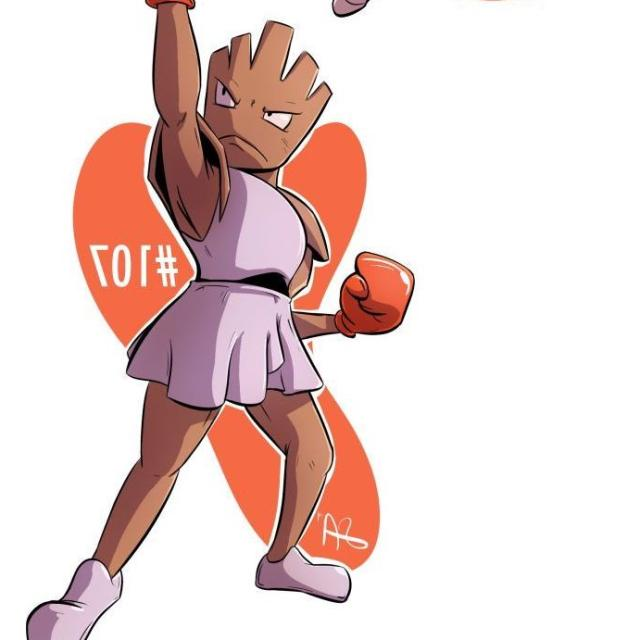Hitmonchan: (120, 16, 398, 606)
